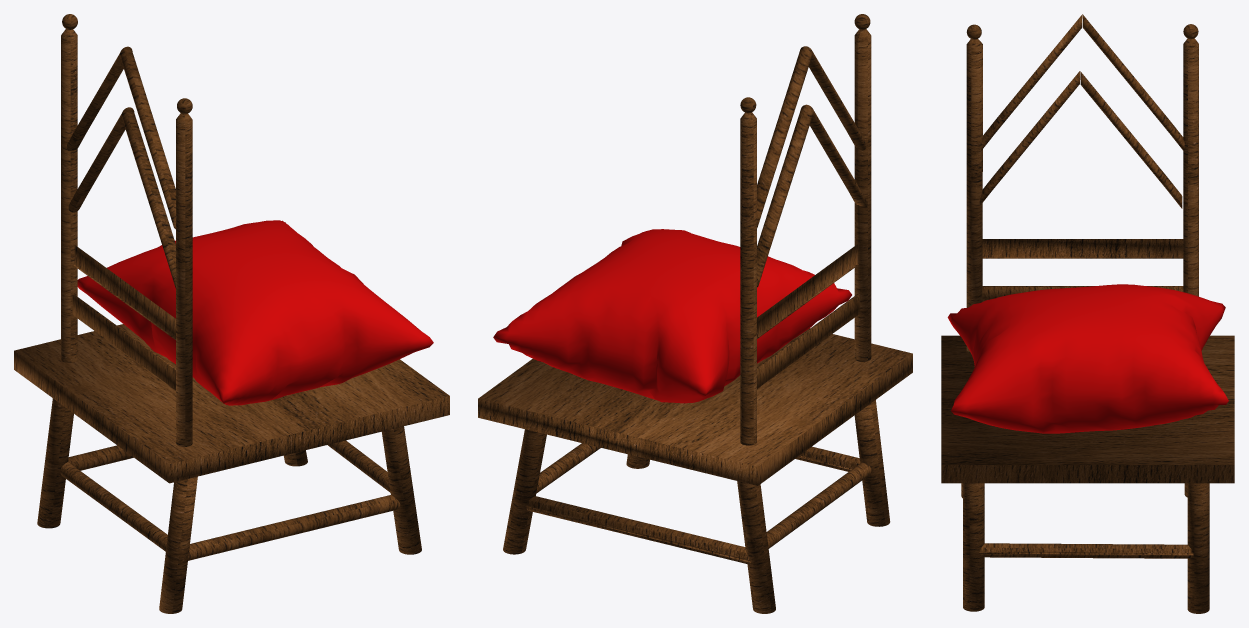
File: sedia.obj
3 renders of one model, left to right at view 1: azimuth 30°, elevation 25°; view 2: azimuth 150°, elevation 25°; view 3: azimuth 270°, elevation 25°, orthographic. The views are drawn at different scales.
Parts seen in each view (by area): view 1: Cube_Cube.001, Plane; view 2: Cube_Cube.001, Plane; view 3: Cube_Cube.001, Plane.
Boxes of the visible parts, left/top/right/bottom form: Cube_Cube.001: left=14, top=14, right=449, bottom=613; Plane: left=77, top=220, right=433, bottom=405; Cube_Cube.001: left=478, top=14, right=912, bottom=613; Plane: left=493, top=229, right=851, bottom=403; Cube_Cube.001: left=941, top=14, right=1234, bottom=613; Plane: left=947, top=284, right=1228, bottom=433.
Bounding box in the file's own units: 2 × 3.52 × 1.92.
Materials: 2 (1 with a texture image).
